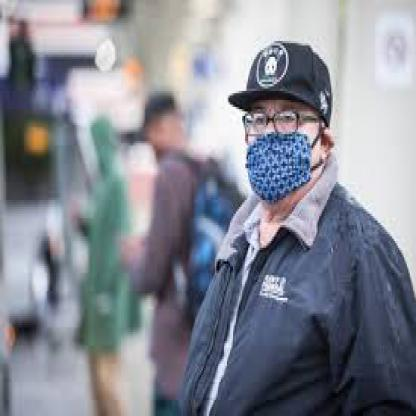Wearing_Mask: (242, 43, 318, 207)
